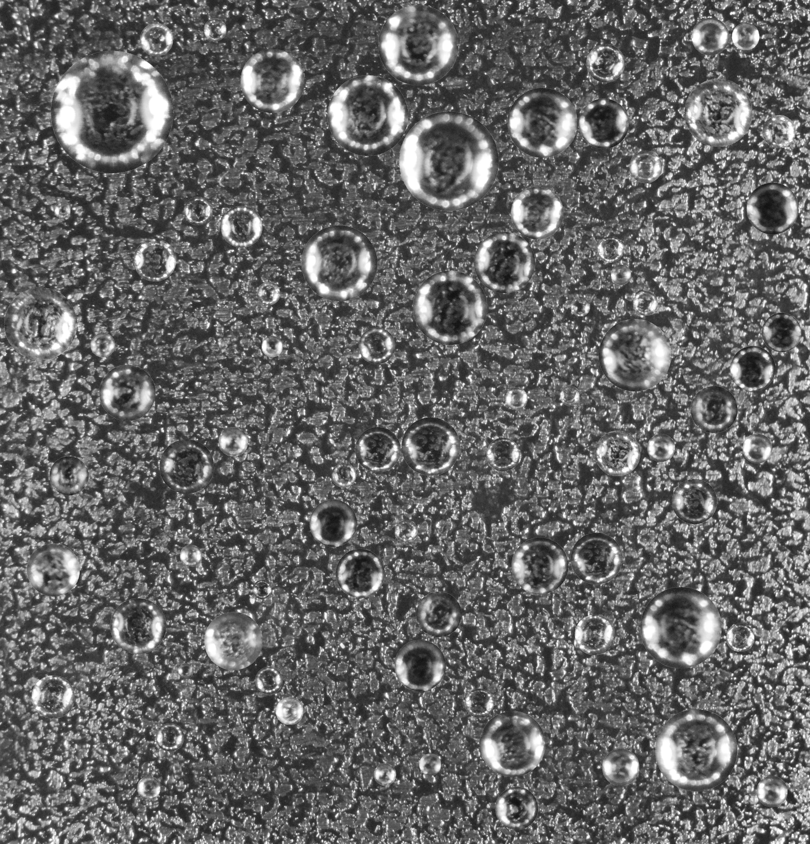Bubble: (50, 50, 173, 173), (399, 111, 498, 210), (655, 709, 737, 791), (640, 587, 721, 668), (327, 75, 408, 155), (378, 5, 458, 85), (301, 225, 377, 301), (413, 270, 487, 344), (4, 287, 76, 360), (598, 319, 671, 391), (507, 87, 577, 157), (684, 78, 752, 146), (479, 711, 545, 776), (240, 49, 304, 112), (474, 232, 535, 293), (401, 417, 459, 475), (204, 612, 262, 670), (511, 537, 568, 594), (99, 364, 155, 420), (110, 598, 166, 654), (159, 439, 213, 493), (26, 543, 79, 596), (511, 186, 563, 239), (570, 532, 622, 584), (746, 182, 798, 234), (394, 640, 445, 691), (578, 98, 628, 148), (335, 549, 384, 597), (690, 386, 737, 433), (309, 499, 356, 546), (595, 430, 640, 476), (416, 591, 461, 637), (672, 479, 717, 524), (355, 427, 400, 472), (730, 346, 775, 391), (31, 675, 74, 718), (133, 238, 176, 281), (495, 787, 538, 829), (220, 205, 262, 247), (574, 614, 615, 655), (762, 312, 801, 352), (49, 456, 88, 495), (691, 17, 729, 55), (586, 44, 624, 82), (602, 748, 639, 785), (358, 327, 395, 364), (486, 437, 519, 471), (762, 115, 795, 148), (629, 150, 662, 183), (139, 23, 172, 56), (756, 776, 787, 807), (742, 433, 772, 463), (218, 427, 247, 456), (183, 196, 212, 225), (464, 688, 493, 717), (155, 723, 184, 751), (726, 623, 754, 651), (275, 697, 303, 724), (647, 434, 675, 461), (732, 22, 759, 50), (255, 667, 282, 694), (597, 236, 623, 262), (633, 290, 658, 315), (90, 332, 114, 357), (331, 463, 356, 487), (137, 776, 160, 799), (257, 282, 280, 305), (394, 520, 417, 543), (203, 18, 226, 40), (374, 763, 396, 785), (505, 387, 527, 409), (179, 544, 201, 566), (419, 753, 441, 775), (261, 336, 282, 357), (611, 264, 631, 284), (570, 297, 590, 316), (560, 386, 580, 405), (252, 580, 271, 599), (54, 202, 70, 218), (178, 663, 193, 678)
